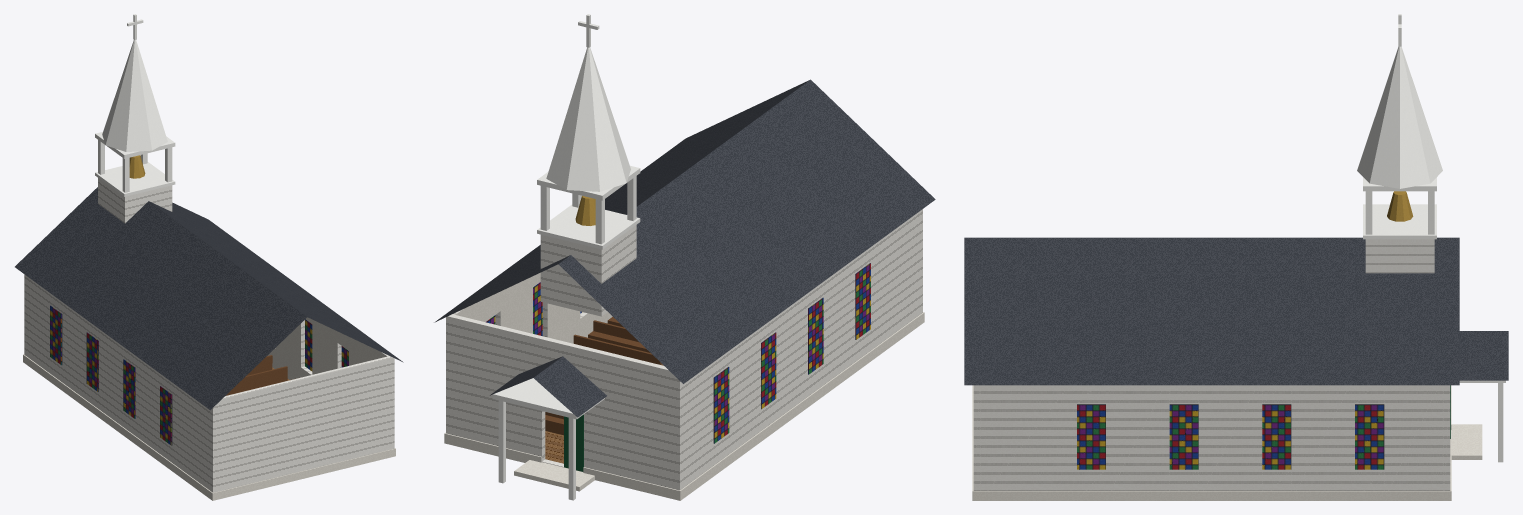
File: church_baptist.glb
3 renders of one model, left to right at view 1: azimuth 30°, elevation 25°; view 2: azimuth 150°, elevation 25°; view 3: azimuth 270°, elevation 25°, orthographic. The views are drawn at different scales.
Parts seen in each view (by area): view 1: church_baptist; view 2: church_baptist; view 3: church_baptist.
Boxes of the visible parts, left/top/right/bottom form: church_baptist: left=15, top=14, right=403, bottom=500; church_baptist: left=434, top=14, right=935, bottom=500; church_baptist: left=964, top=14, right=1508, bottom=500.
Size of the model in its own units: 10.7 by 17.9 by 20.55.
10 materials, 10 textured.
